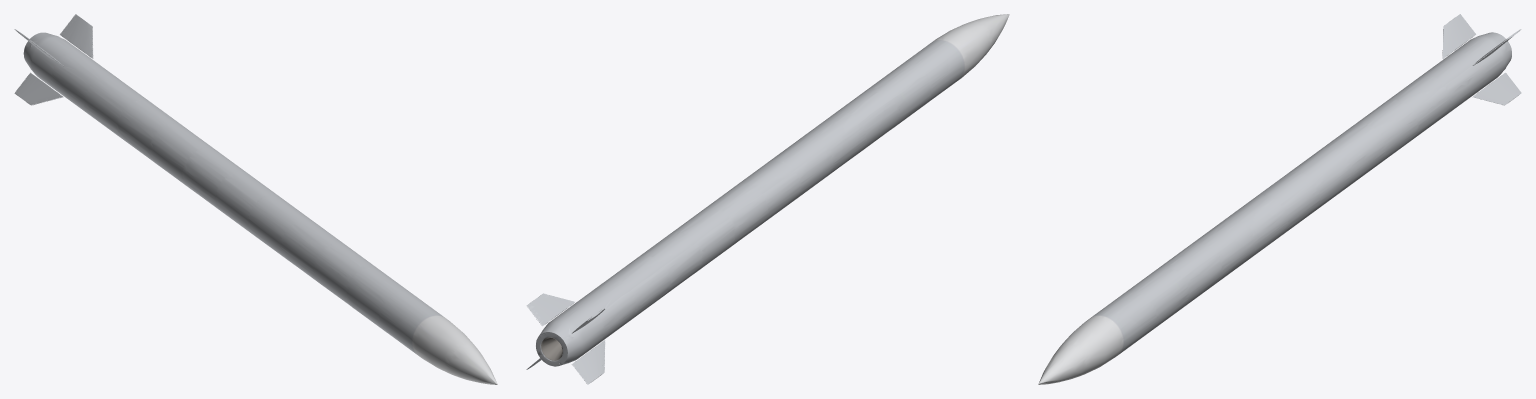
3 renders of one model, left to right at view 1: azimuth 30°, elevation 25°; view 2: azimuth 150°, elevation 25°; view 3: azimuth 330°, elevation 25°, orthographic.
Visible parts, largest first — view 1: airframe, fsim:fin:3899119507:1|elevator+aileron:-1+rudder:1@-20,20, fsim:fin:3419906077:1|elevator+aileron:1+rudder:1@-20,20; view 2: airframe, fsim:fin:3419906077:1|elevator+aileron:1+rudder:1@-20,20, fsim:fin:3899119507:1|elevator+aileron:-1+rudder:1@-20,20; view 3: airframe, fsim:fin:1916934482:1|elevator+aileron:1+rudder:-1@-20,20, fsim:fin:453677541:1|elevator+aileron:-1+rudder:-1@-20,20.
Part boxes in pixels (left/top/right/bottom): airframe: left=23, top=32, right=497, bottom=384; fsim:fin:3899119507:1|elevator+aileron:-1+rudder:1@-20,20: left=14, top=72, right=63, bottom=105; fsim:fin:3419906077:1|elevator+aileron:1+rudder:1@-20,20: left=60, top=14, right=93, bottom=58; airframe: left=536, top=14, right=1009, bottom=366; fsim:fin:3419906077:1|elevator+aileron:1+rudder:1@-20,20: left=526, top=293, right=574, bottom=326; fsim:fin:3899119507:1|elevator+aileron:-1+rudder:1@-20,20: left=572, top=340, right=605, bottom=384; airframe: left=1038, top=32, right=1511, bottom=384; fsim:fin:1916934482:1|elevator+aileron:1+rudder:-1@-20,20: left=1473, top=72, right=1521, bottom=105; fsim:fin:453677541:1|elevator+aileron:-1+rudder:-1@-20,20: left=1442, top=14, right=1475, bottom=58.
Size of the model in its own units: 0.3145 by 0.3151 by 4.
3 materials, 1 textured.
